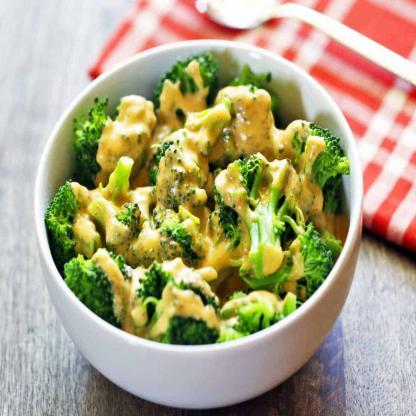broccoli: (46, 47, 350, 344)
